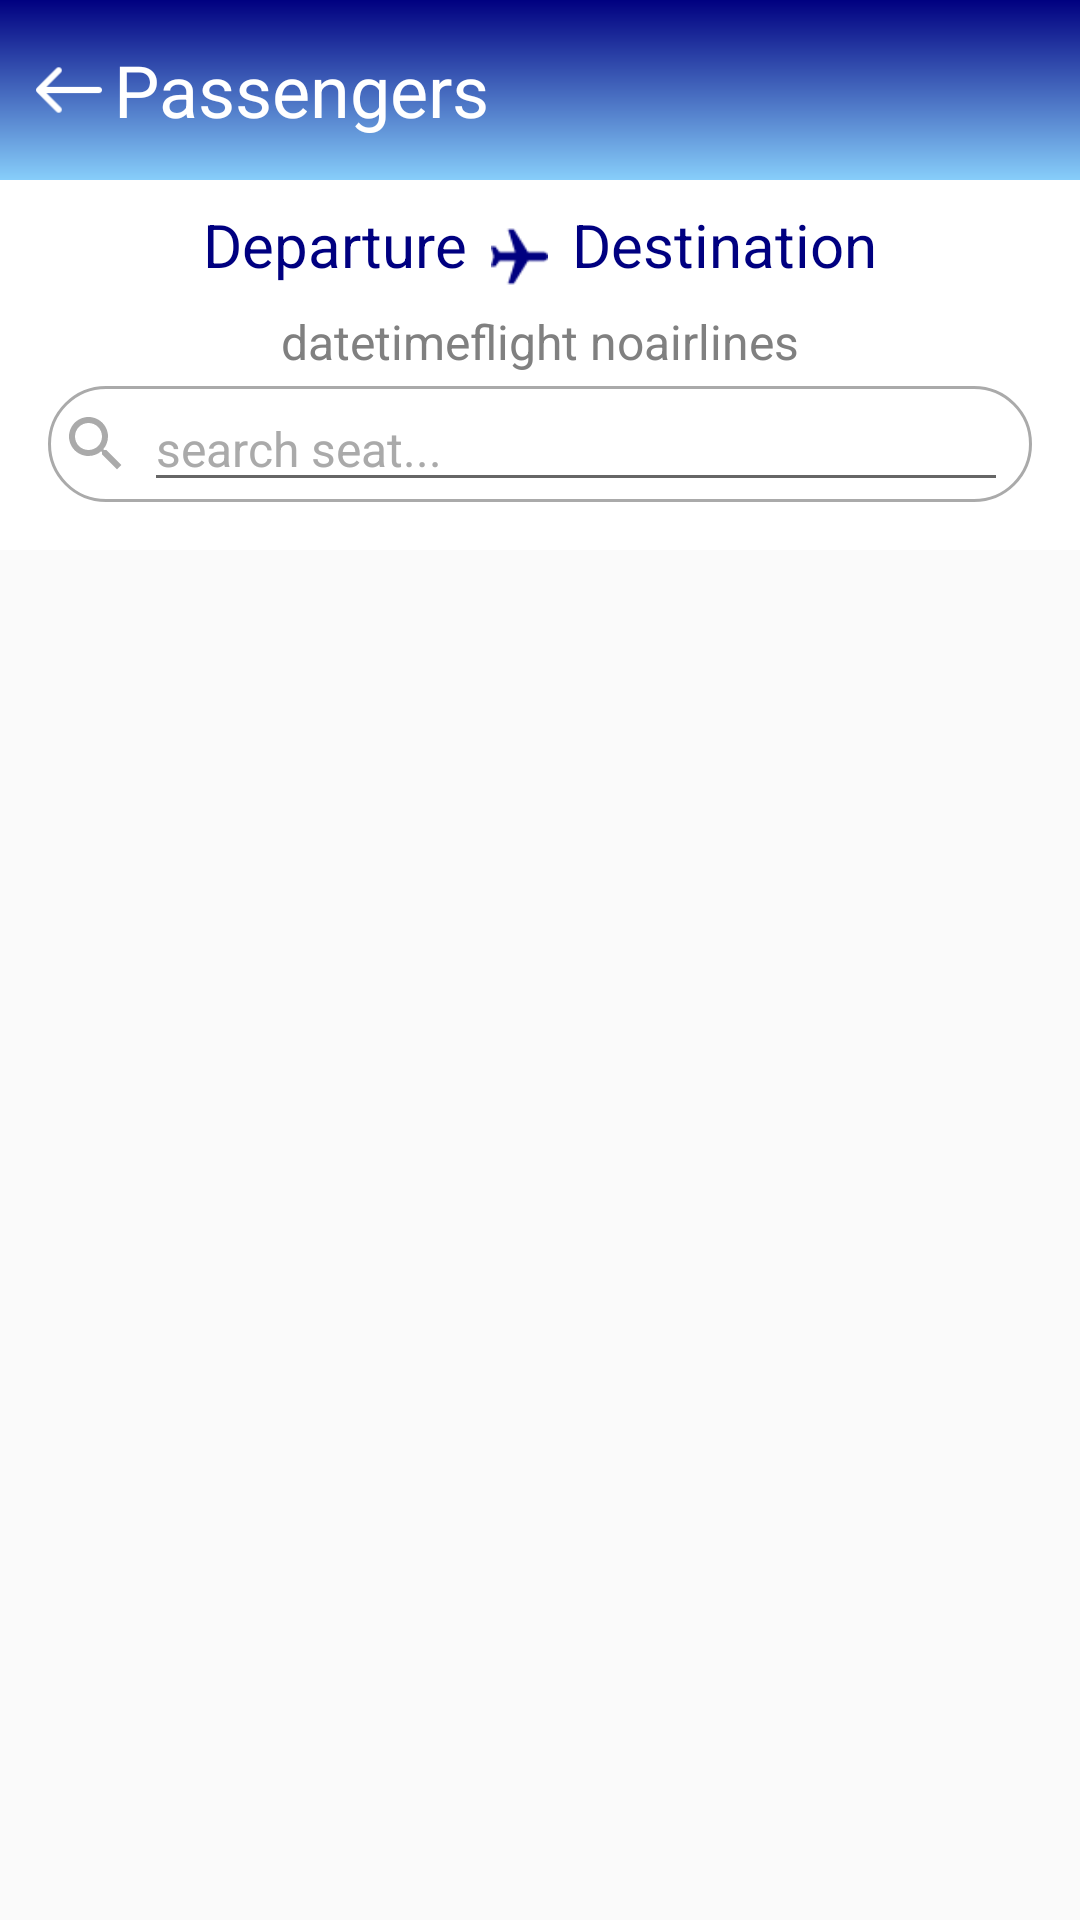

Icon click points for this 1080px x 1920px phone screenshot, format point (x, y):
back: point (69, 90)
plane: point (519, 256)
